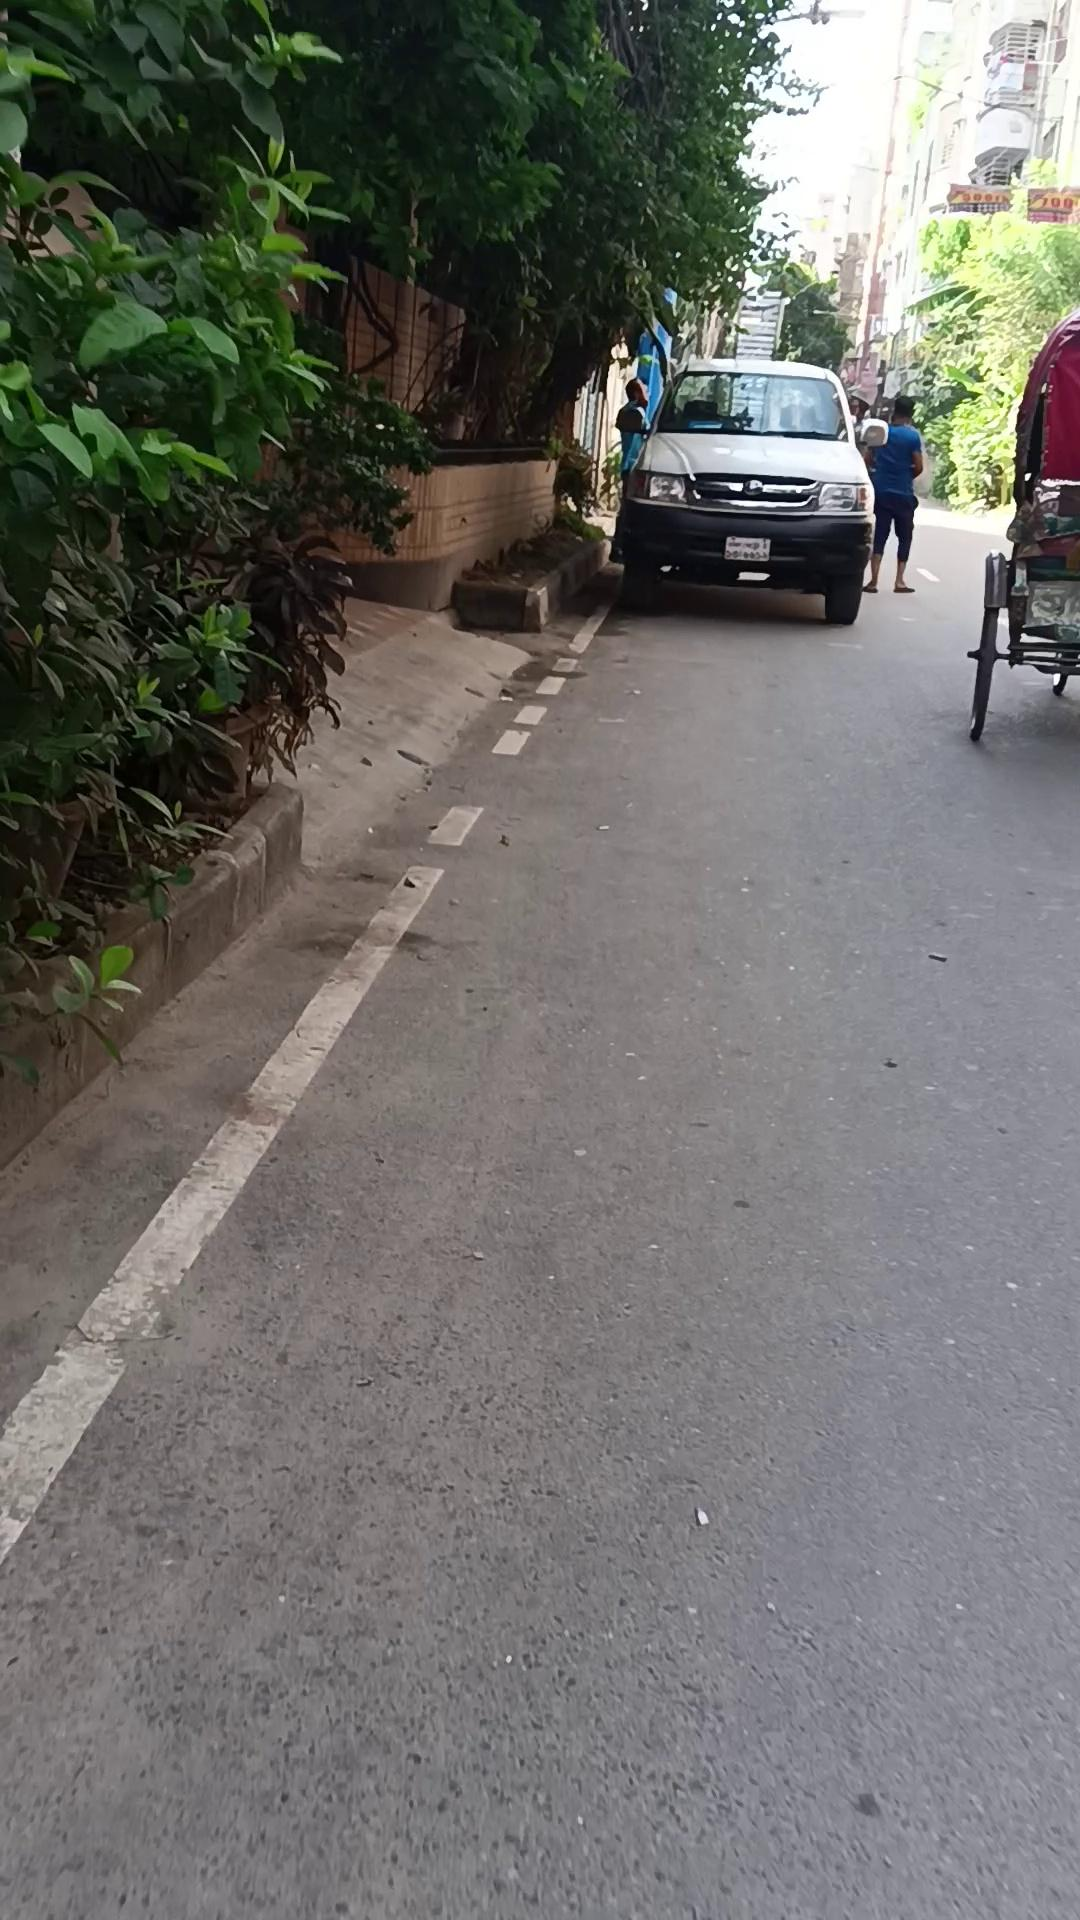Bollard: (609, 356, 877, 625)
Broken-road: (0, 501, 589, 1193)
Curb: (860, 394, 924, 593)
Fallen-tree: (1, 47, 434, 1162)
Fence: (964, 307, 1077, 736)
